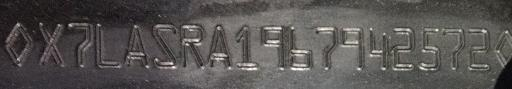letter: (148, 21, 180, 70), (92, 21, 124, 70), (286, 23, 318, 72), (36, 20, 66, 69), (230, 23, 260, 72), (66, 21, 94, 70), (178, 22, 206, 71), (122, 22, 150, 71), (206, 22, 234, 71), (313, 24, 339, 75), (259, 24, 287, 71), (338, 25, 366, 72), (388, 23, 414, 72), (416, 24, 442, 73), (465, 26, 493, 71), (440, 26, 466, 73), (366, 26, 390, 71)
